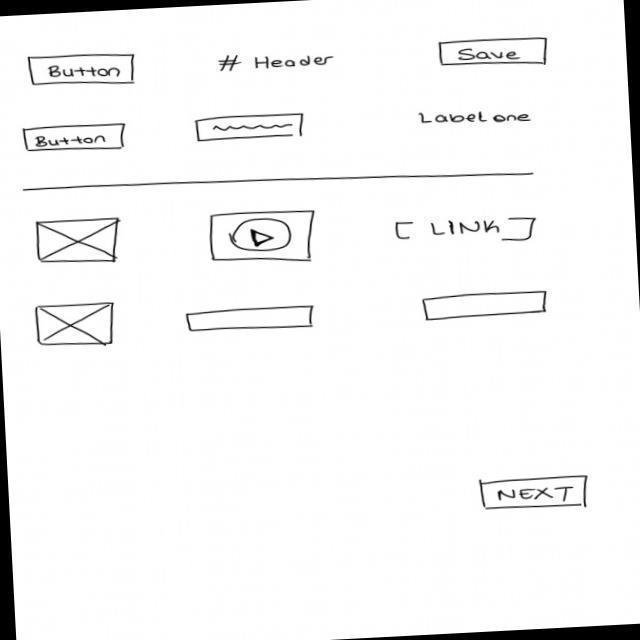button: (480, 473, 595, 515), (27, 51, 139, 91), (438, 35, 551, 71), (22, 123, 129, 157)
image: (34, 216, 124, 269), (34, 301, 117, 351)
input: (421, 290, 553, 323), (185, 305, 318, 335), (194, 111, 309, 144)
label: (417, 105, 537, 132), (218, 50, 337, 76)
link: (393, 213, 539, 252)
